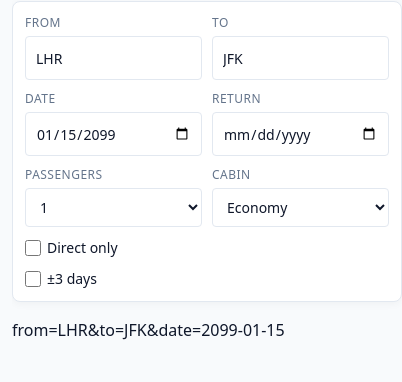
Test: SearchFormBar › changing Cabin select updates URL
Select "Business" in the dropdown labelled "Cabin" at {"x": 300, "y": 208}, box [212, 188, 389, 227]
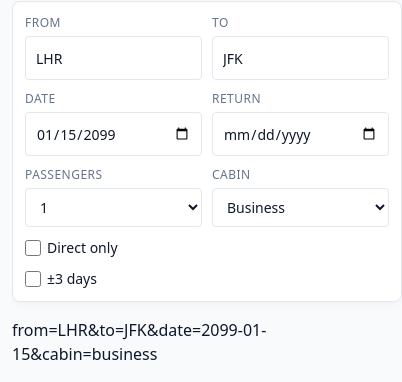
Check: the text with test id "probe" shows "cabin=business", box [12, 319, 266, 365]
